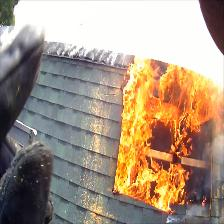fire: (110, 54, 223, 221)
